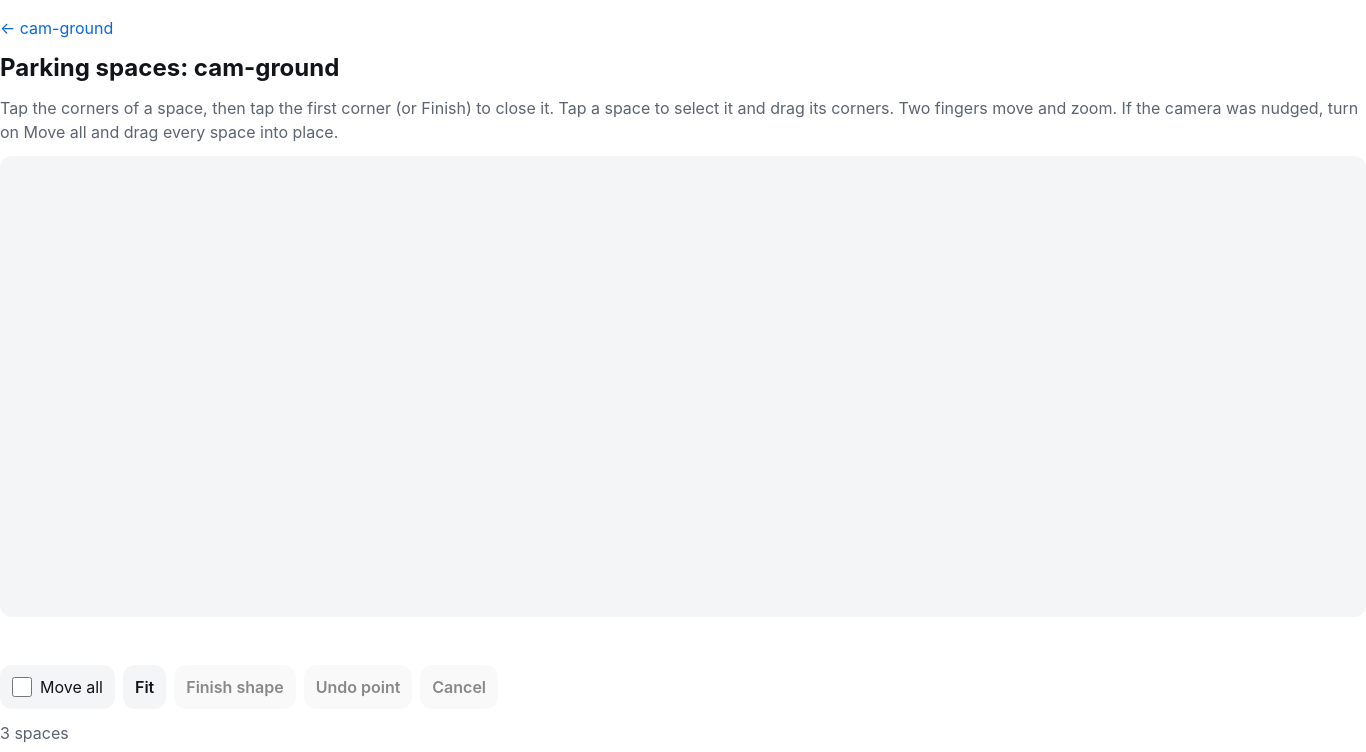
Test: SlotEditor › move all → save → saved, worker reloaded, then a new reference frame
The image size is (1366, 752).
Click the checkbox labelled "Move all". click: (22, 687)
box: [12,677,32,697]
(page scrolled)
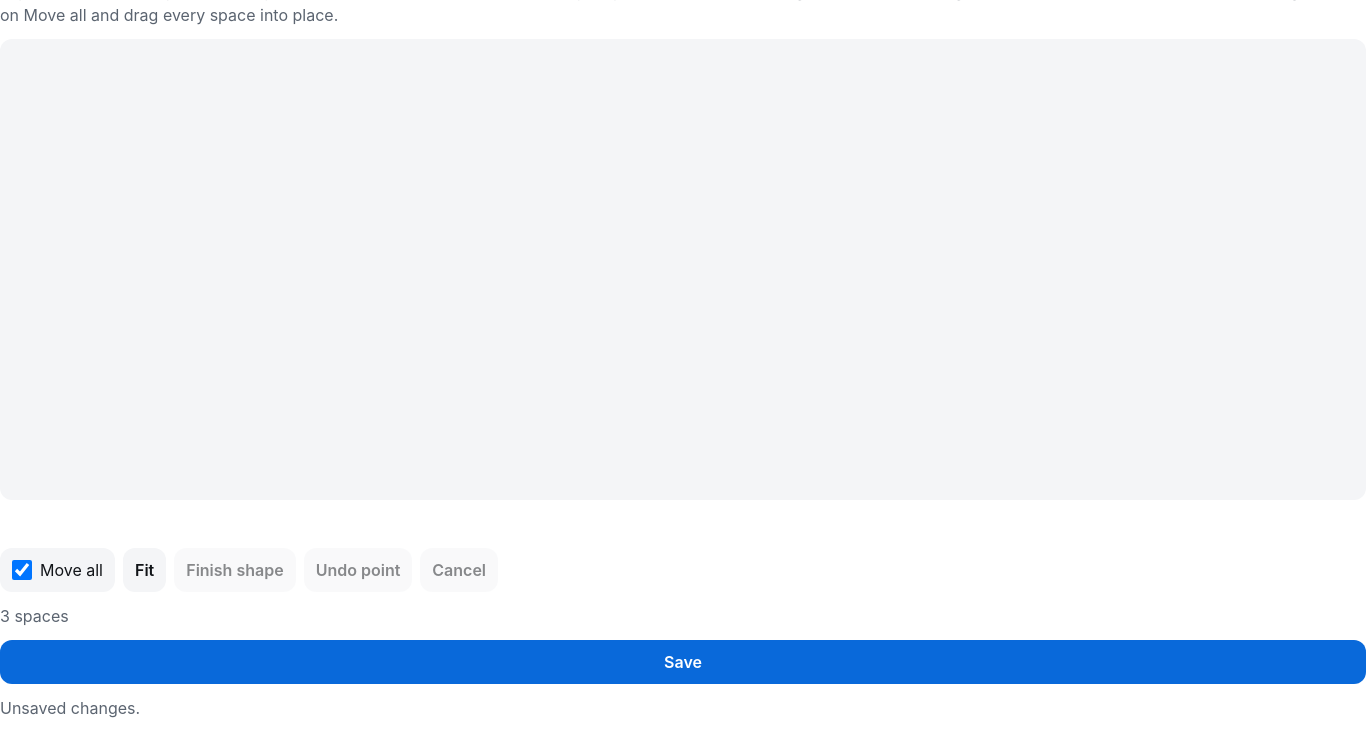
Check: the text "Unsaved changes." is shown, box [0,698,140,718]
Click the button "Save". click: (683, 662)
box: [0,640,1365,684]
(page scrolled)
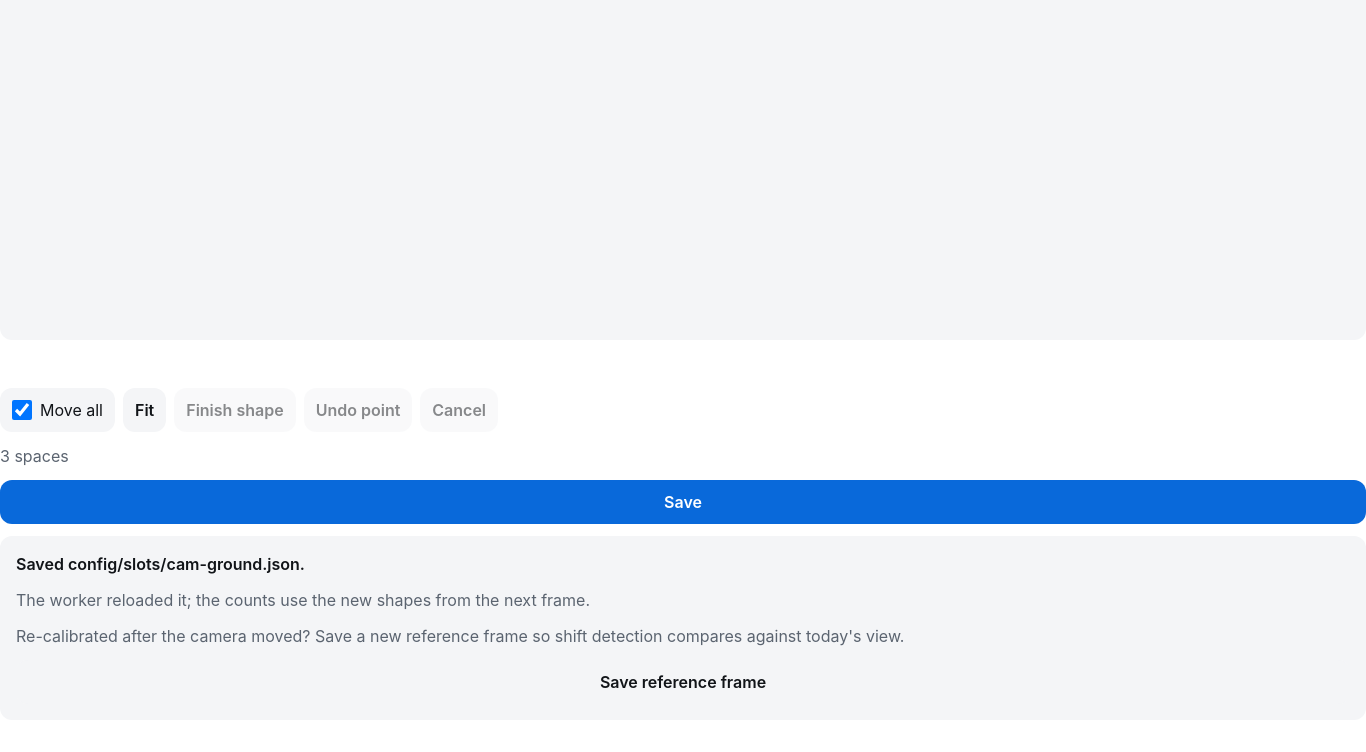
Check: the text "Saved config/slots/cam-ground.json." is shown, box [16,554,305,574]
Check: the text "The worker reloaded it" is shown, box [16,590,590,610]
Check: the text "Unsaved changes." is gone
Click the button "Save reference frame". click: (683, 682)
box: [16,660,1350,704]
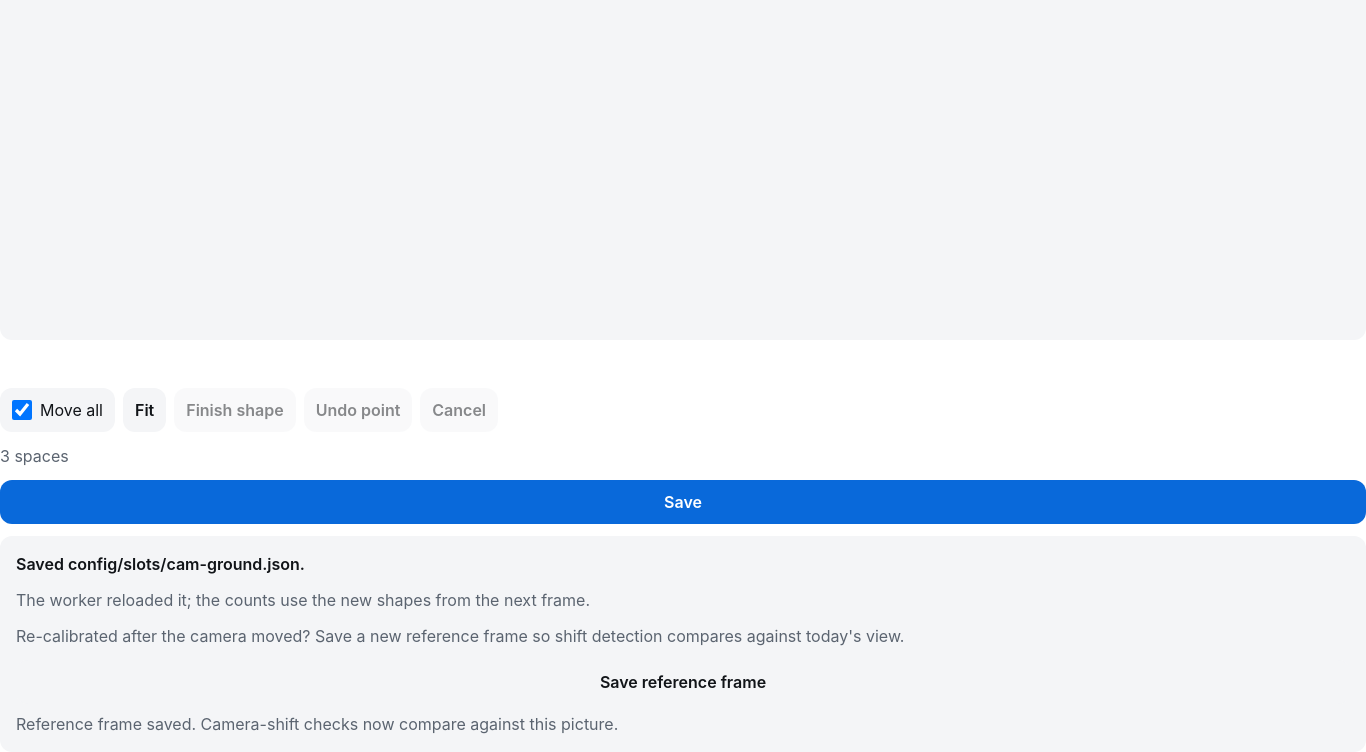
Check: the text "Reference frame saved. Camera-shift checks now compare against this picture." is shown, box [16,714,618,734]
